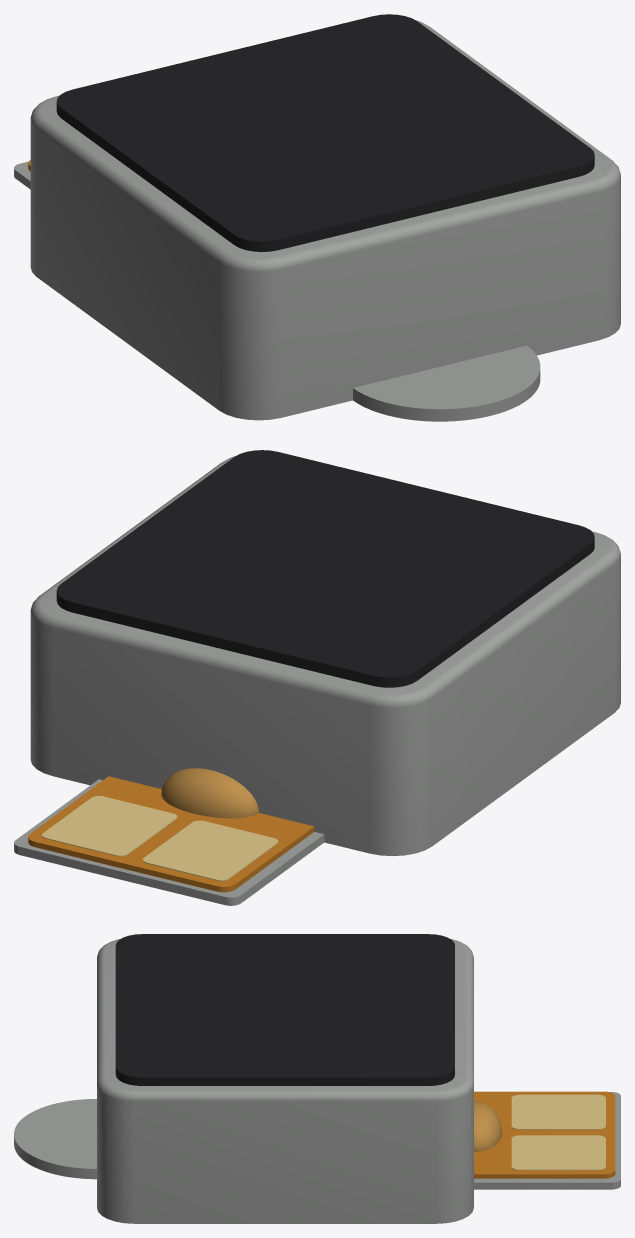
The model's file is lra-motor.glb.
3 renders of one model, top to bottom at view 1: azimuth 30°, elevation 25°; view 2: azimuth 150°, elevation 25°; view 3: azimuth 270°, elevation 25°, orthographic. The views are drawn at different scales.
Visible parts, largest first — view 1: can, poron, Cylinder; view 2: can, poron, flex, pad_b, pad_a, stiffener, Sphere; view 3: can, poron, Cylinder, flex, pad_b, pad_a, stiffener, Sphere.
Part boxes in pixels (x1=…): can: x1=30, y1=20, x2=620, y2=420; poron: x1=56, y1=14, x2=594, y2=251; Cylinder: x1=353, y1=345, x2=540, y2=421; can: x1=30, y1=456, x2=620, y2=856; poron: x1=56, y1=450, x2=594, y2=687; flex: x1=28, y1=776, x2=314, y2=892; pad_b: x1=42, y1=796, x2=177, y2=856; pad_a: x1=143, y1=820, x2=278, y2=880; stiffener: x1=14, y1=779, x2=324, y2=905; Sphere: x1=161, y1=768, x2=258, y2=818; can: x1=97, y1=939, x2=473, y2=1223; poron: x1=115, y1=934, x2=454, y2=1085; Cylinder: x1=14, y1=1099, x2=96, y2=1179; flex: x1=474, y1=1091, x2=615, y2=1178; pad_b: x1=511, y1=1135, x2=605, y2=1170; pad_a: x1=511, y1=1094, x2=605, y2=1129; stiffener: x1=474, y1=1092, x2=620, y2=1189; Sphere: x1=474, y1=1101, x2=502, y2=1151.
Size of the model in its own units: 0.01 by 0.00447 by 0.0161.
